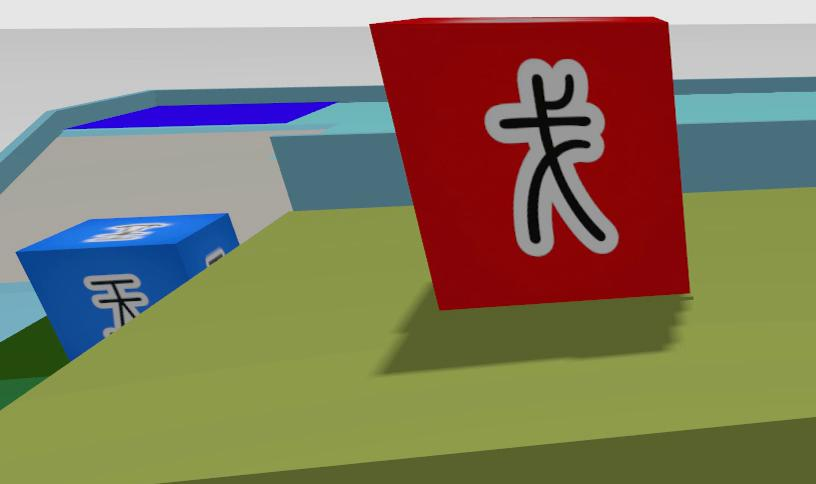KFS_FAKE: (371, 17, 689, 308), (485, 58, 618, 256)
KFS_REAL: (18, 213, 237, 359), (83, 274, 148, 335)
